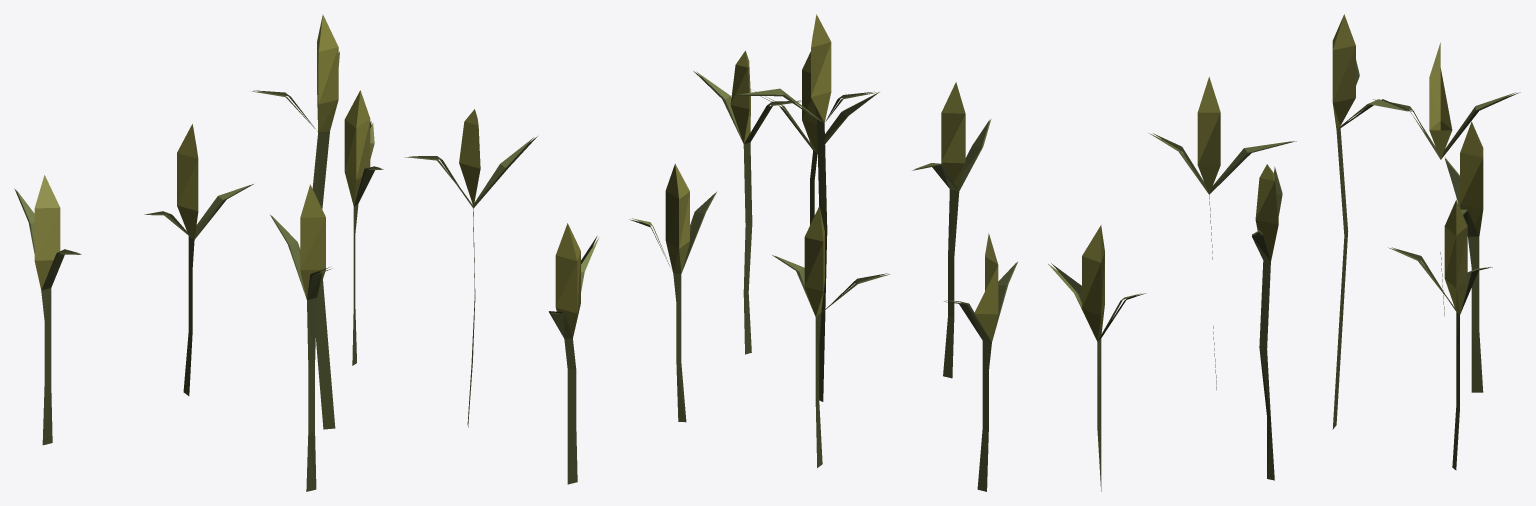
The model's file is wheat.obj.
3 renders of one model, left to right at view 1: azimuth 30°, elevation 25°; view 2: azimuth 150°, elevation 25°; view 3: azimuth 270°, elevation 25°, orthographic. The views are drawn at different scales.
Parts seen in each view (by area): view 1: Object Wheat 2026-10-08_16-47-18; view 2: Object Wheat 2026-10-08_16-47-18; view 3: Object Wheat 2026-10-08_16-47-18.
Part boxes in pixels (left/top/right/bottom): Object Wheat 2026-10-08_16-47-18: left=14, top=14, right=598, bottom=491; Object Wheat 2026-10-08_16-47-18: left=630, top=14, right=1017, bottom=491; Object Wheat 2026-10-08_16-47-18: left=1048, top=14, right=1520, bottom=491.
Bounding box in the file's own units: 125 × 118 × 123.
